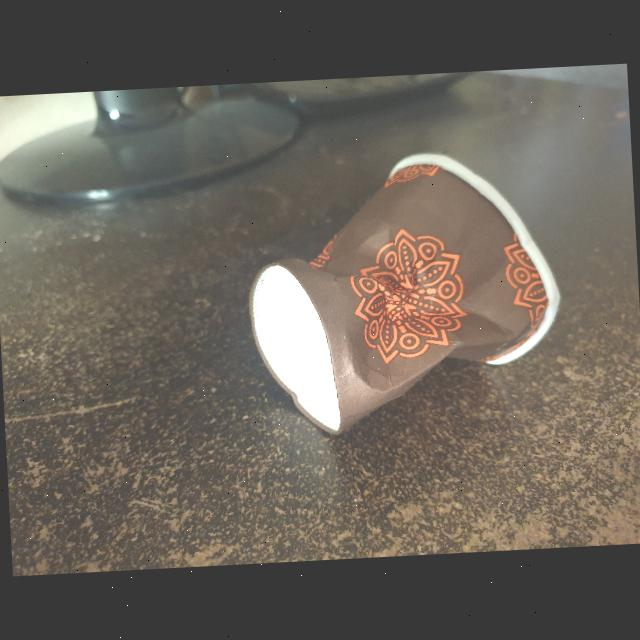trash: (234, 134, 566, 446)
